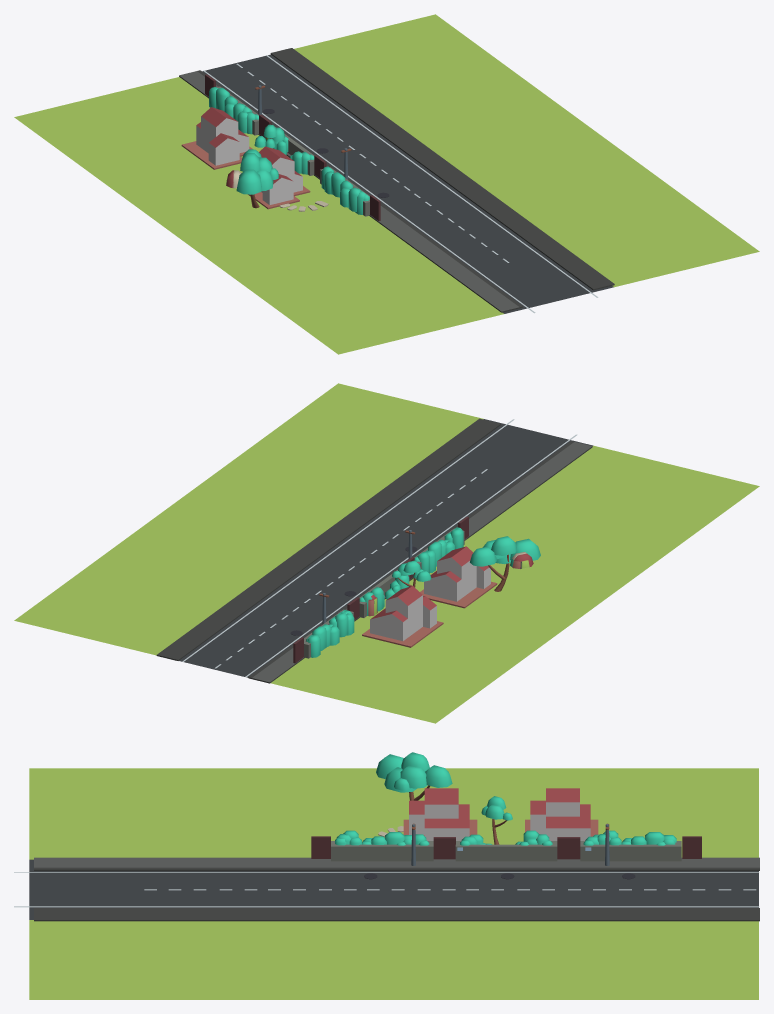
Rendered from stree_01.fbx.
3 views of the same model, one above another, from view 1: azimuth 30°, elevation 25°; view 2: azimuth 150°, elevation 25°; view 3: azimuth 270°, elevation 25° (orthographic). The views are drawn at different scales.
Parts seen in each view (by area): view 1: polySurface20; view 2: polySurface20; view 3: polySurface20.
Part boxes in pixels (x1,y1,x2,y2): polySurface20: (14, 14, 759, 354); polySurface20: (14, 383, 759, 723); polySurface20: (14, 752, 759, 999).
Size of the model in its own units: 75.64 by 11.2 by 103.
